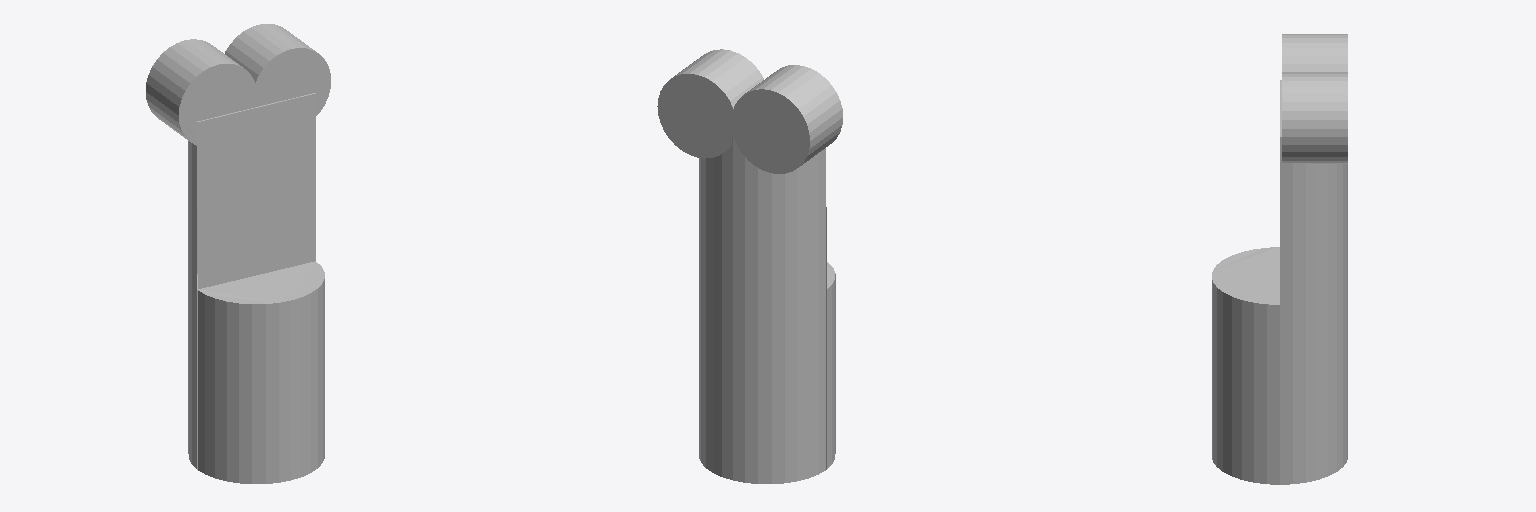
The model's file is boni.obj.
3 views of the same model, side by side, from view 1: azimuth 30°, elevation 25°; view 2: azimuth 150°, elevation 25°; view 3: azimuth 270°, elevation 25° (orthographic).
Visible parts, largest first — view 1: Cylinder.001_Cylinder.002, Cylinder.002_Cylinder.003, Cylinder.003_Cylinder.004; view 2: Cylinder.001_Cylinder.002, Cylinder.002_Cylinder.003, Cylinder.003_Cylinder.004; view 3: Cylinder.001_Cylinder.002, Cylinder.003_Cylinder.004, Cylinder.002_Cylinder.003.
Part boxes in pixels (left/top/right/bottom): Cylinder.001_Cylinder.002: left=188, top=93, right=324, bottom=483; Cylinder.002_Cylinder.003: left=146, top=39, right=254, bottom=145; Cylinder.003_Cylinder.004: left=225, top=24, right=330, bottom=115; Cylinder.001_Cylinder.002: left=699, top=133, right=835, bottom=483; Cylinder.002_Cylinder.003: left=731, top=65, right=842, bottom=173; Cylinder.003_Cylinder.004: left=657, top=49, right=763, bottom=158; Cylinder.001_Cylinder.002: left=1212, top=80, right=1347, bottom=484; Cylinder.003_Cylinder.004: left=1282, top=72, right=1347, bottom=163; Cylinder.002_Cylinder.003: left=1282, top=34, right=1347, bottom=71.
Bounding box in the file's own units: 1.06 × 2.65 × 0.8241.